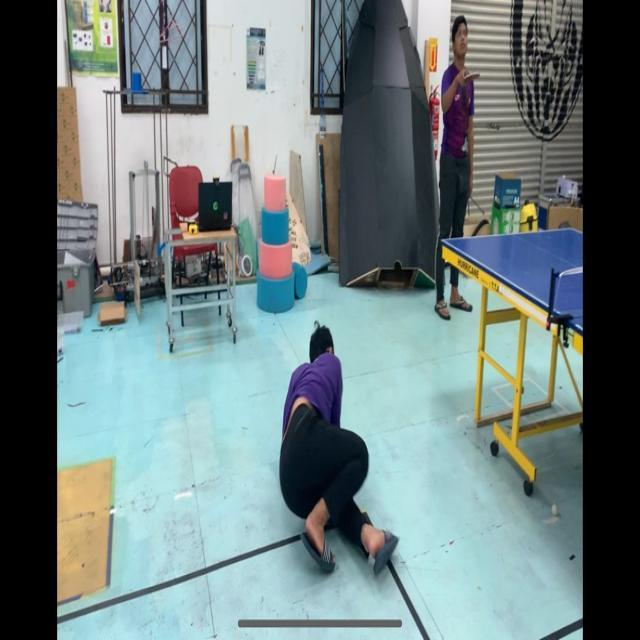fall: (272, 313, 411, 593)
